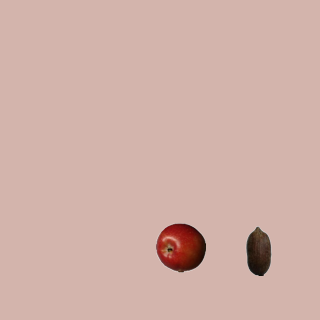Apple Braeburn: (155, 222, 205, 272)
Nut Pecan: (233, 225, 283, 275)
